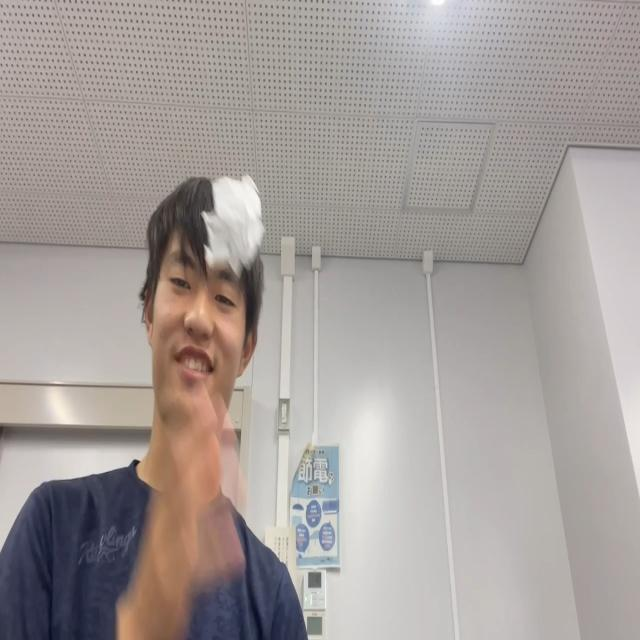paper: (200, 173, 264, 279)
